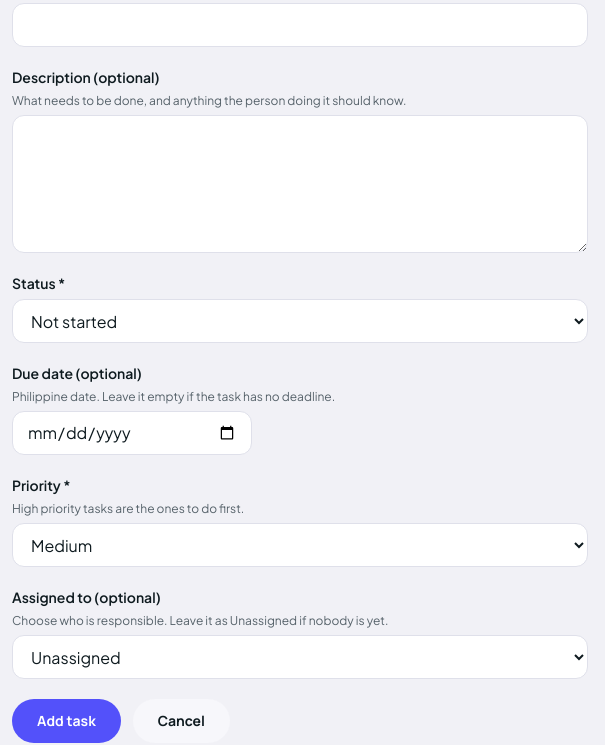
Test: TaskForm priority and assignee (B6-F04, B6-F05) › lists a priority and an assignee error in the summary and marks the fields
What coordinates should you click on to do the following:
click the button "Add task"
I would click on:
 (66, 721)
Its box is [12, 699, 121, 743].
(page scrolled)
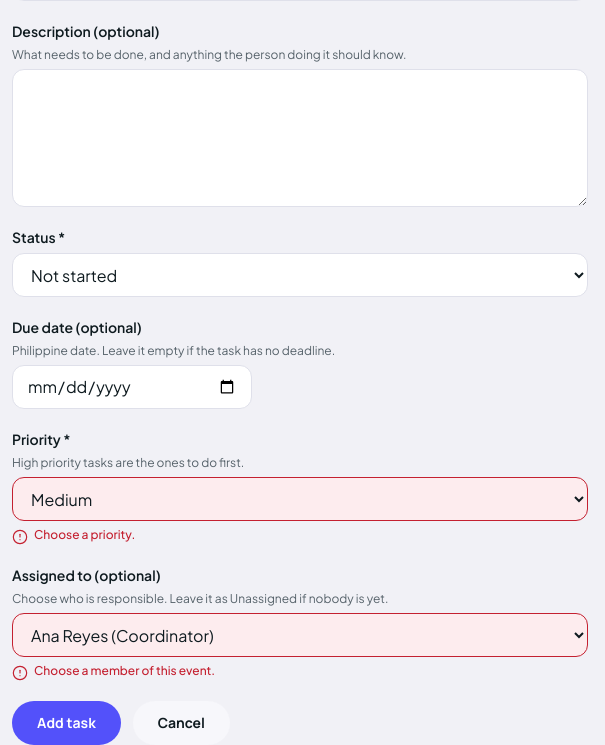
Expected: the dropdown labelled "Assigned to (optional)" shows "Ana Reyes (Coordinator)", [12, 613, 588, 657]
